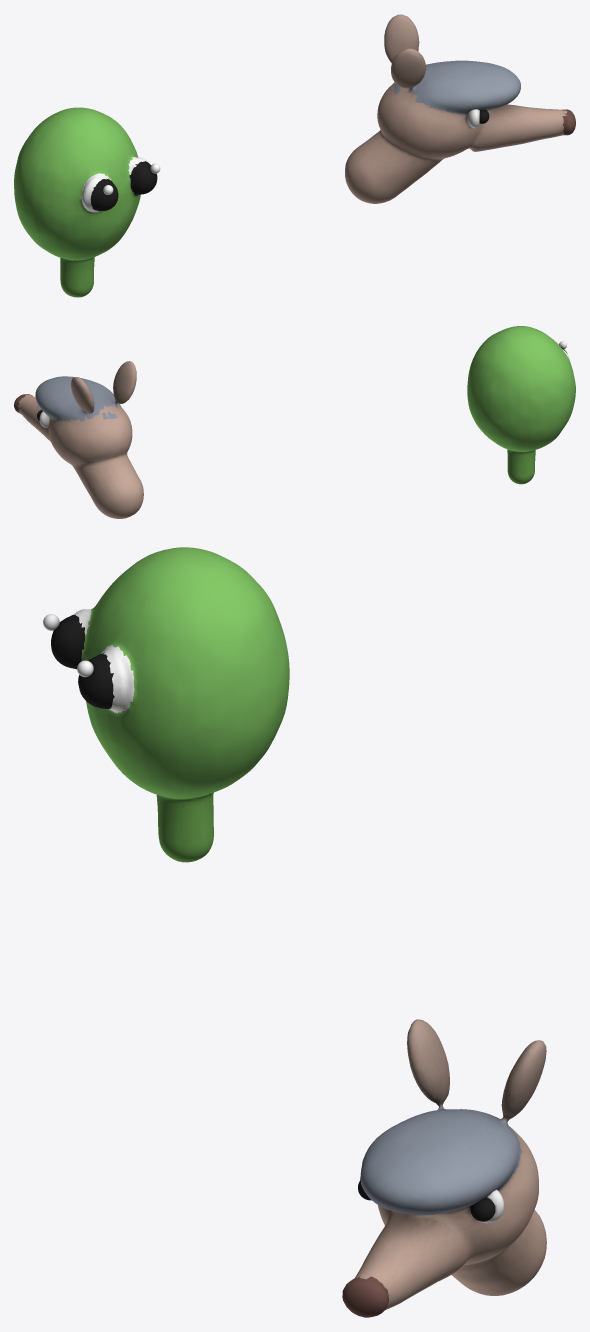
Rendered from jag-ska-hamta-ut-ett-paket.glb.
The picture shows the model from 3 angles, top to bottom: view 1: azimuth 30°, elevation 25°; view 2: azimuth 150°, elevation 25°; view 3: azimuth 270°, elevation 25°; orthographic projection. The views are drawn at different scales.
Parts seen in each view (by area): view 1: tatu-cabeca__r0, et-cabeca__r0; view 2: et-cabeca__r0, tatu-cabeca__r0; view 3: et-cabeca__r0, tatu-cabeca__r0.
Part boxes in pixels (x1,y1,x2,y2): tatu-cabeca__r0: (345,14,575,203); et-cabeca__r0: (14,107,157,297); et-cabeca__r0: (467,326,575,484); tatu-cabeca__r0: (14,361,143,518); et-cabeca__r0: (51,547,289,862); tatu-cabeca__r0: (342,1019,546,1317).
Bounding box in the file's own units: 2.24 × 0.8821 × 0.9642.
